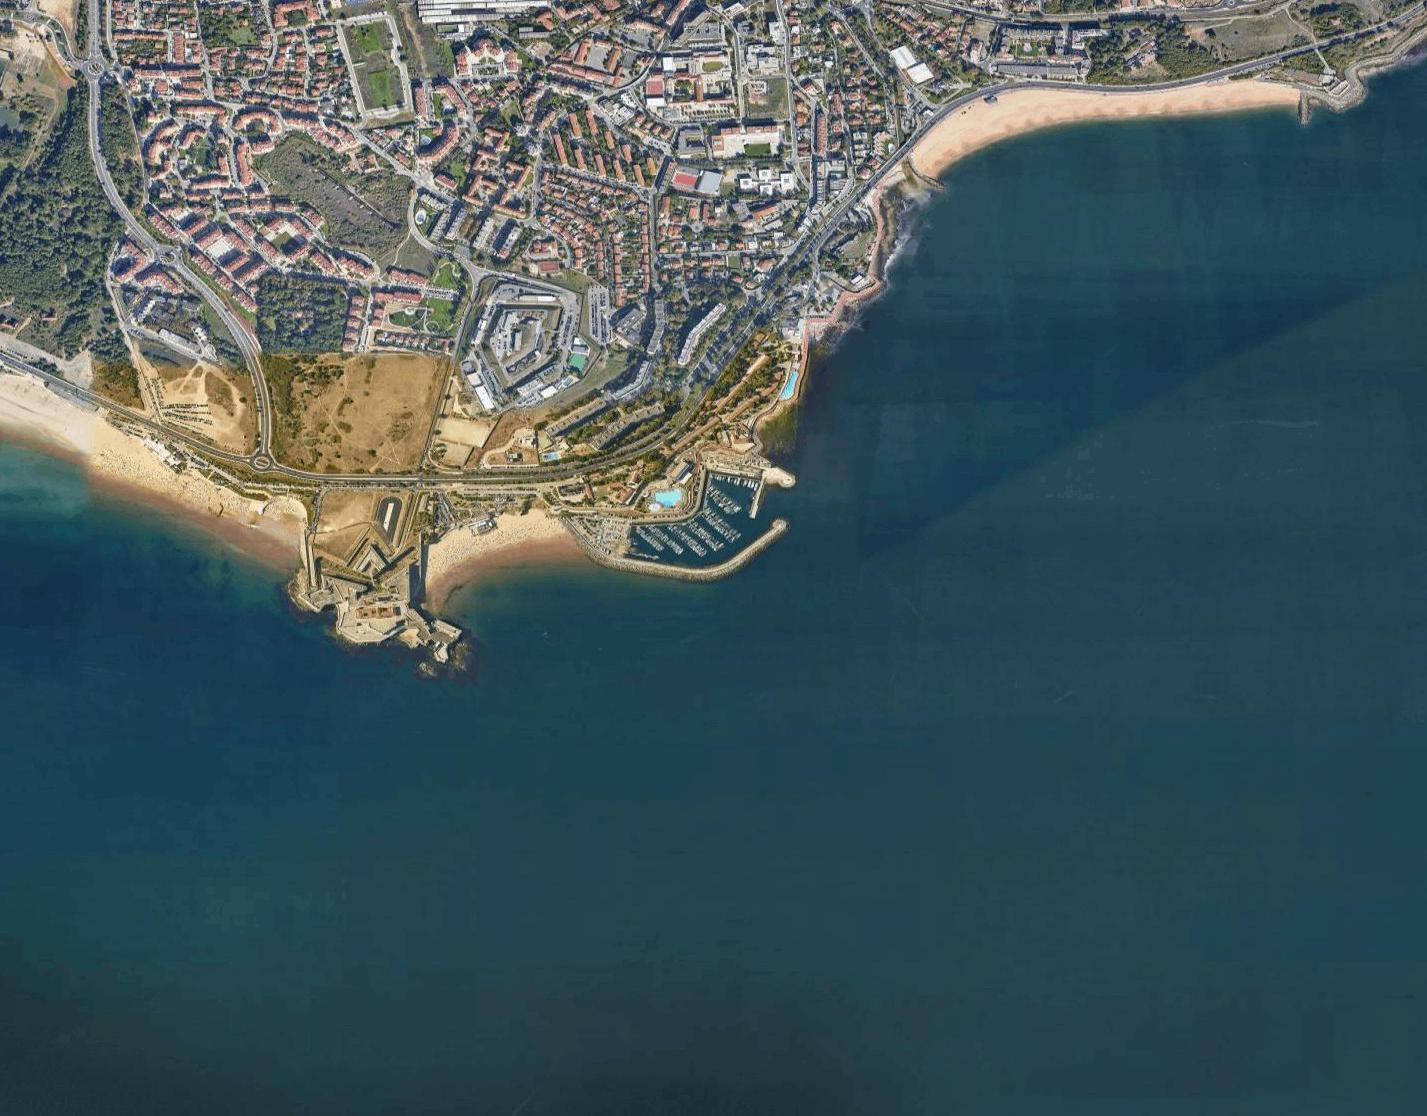harbor: (575, 433, 802, 600)
motorway: (1291, 1, 1427, 59), (129, 218, 208, 290), (205, 290, 268, 380), (78, 121, 131, 221), (888, 97, 960, 168), (1201, 41, 1291, 92), (1083, 64, 1203, 101), (961, 71, 1081, 108), (78, 2, 112, 123), (244, 377, 283, 474)
